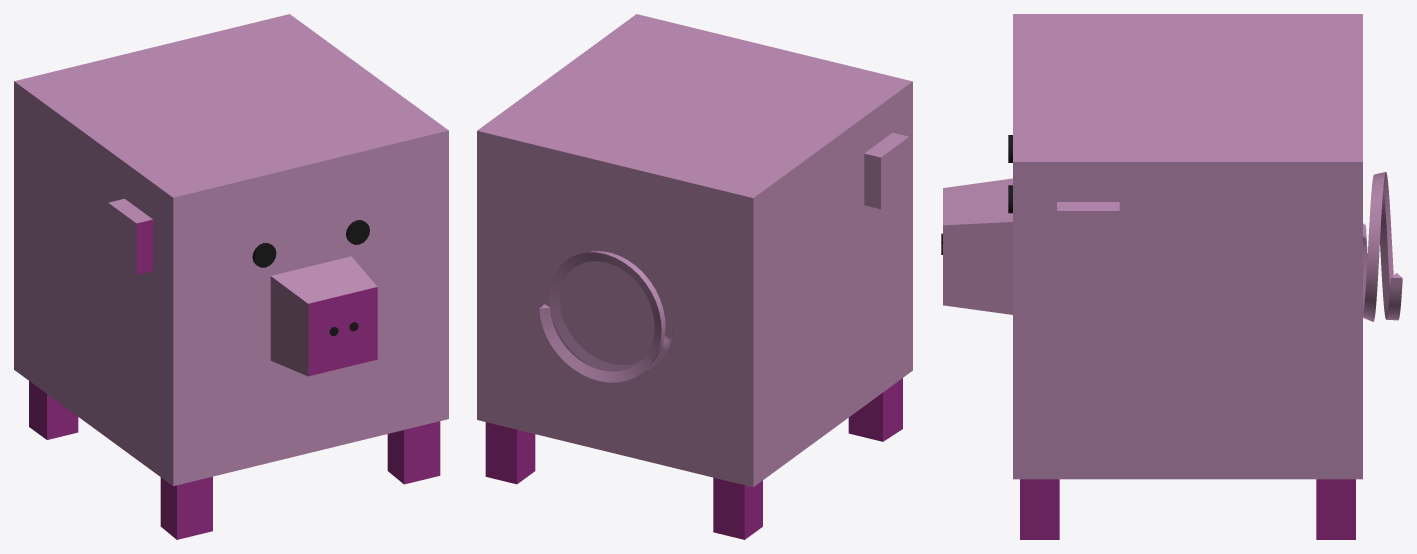
The model's file is Pig.FBX.
3 views of the same model, side by side, from view 1: azimuth 30°, elevation 25°; view 2: azimuth 150°, elevation 25°; view 3: azimuth 270°, elevation 25° (orthographic). The views are drawn at different scales.
Parts seen in each view (by area): view 1: pig; view 2: pig; view 3: pig.
Part boxes in pixels (bbox=[...]): pig: bbox=[14, 14, 448, 539]; pig: bbox=[477, 14, 912, 539]; pig: bbox=[941, 14, 1402, 539].
Size of the model in its own units: 9.93 by 10.64 by 11.69.
Materials: 1 (1 with a texture image).
